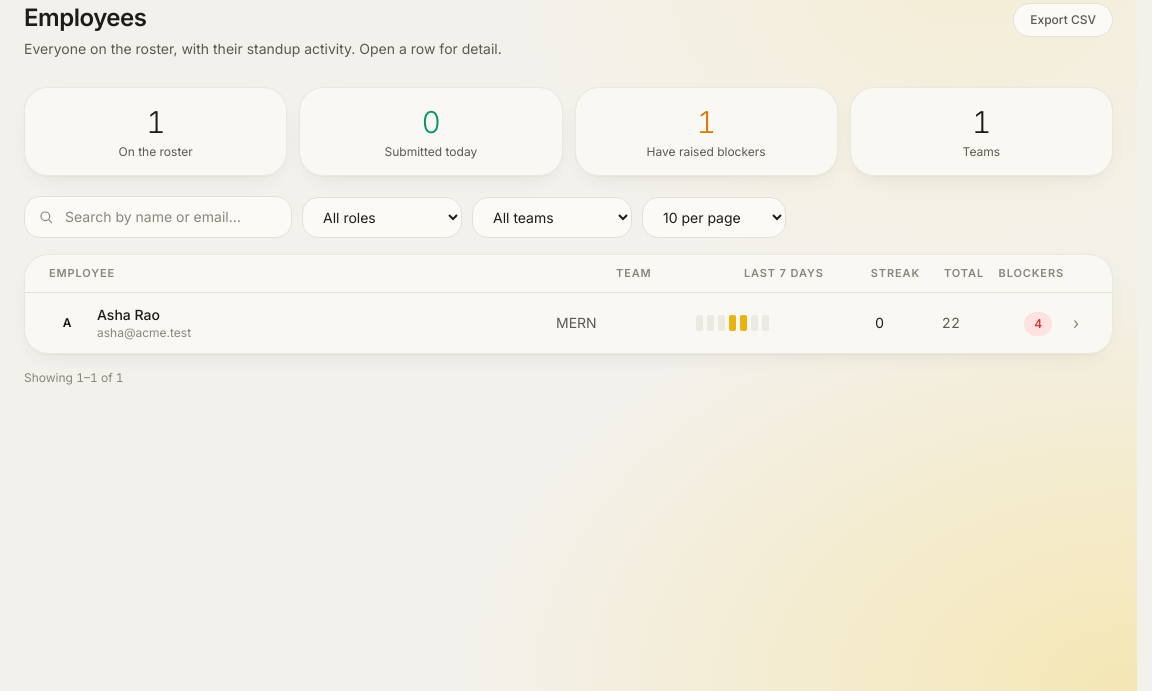
opening somebody on the roster › shows what they do here, with the date their probation runs out
Click the button "A Asha Rao asha@acme.test MERN 0 22 4 ›". click: (568, 323)
box: [25, 293, 1112, 353]
(page scrolled)
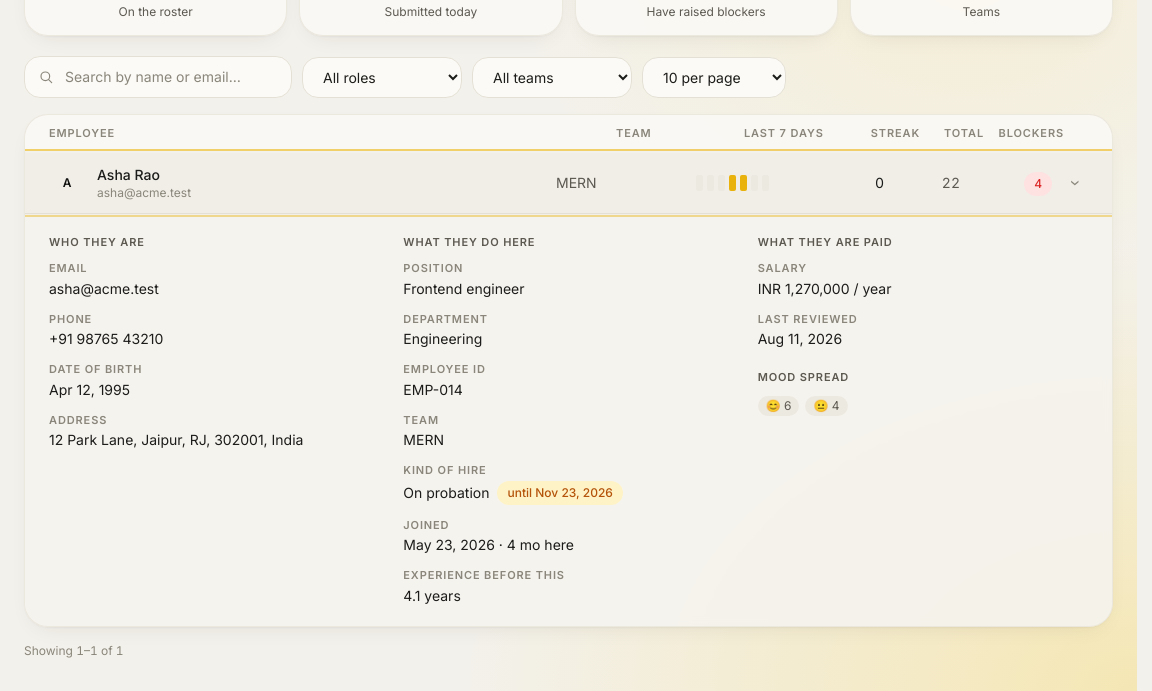
Now the text "Frontend engineer" is shown, box [403, 280, 524, 297]
Now the text "EMP-014" is shown, box [403, 381, 463, 398]
Now the text "On probation until Nov 23, 2026" is shown, box [403, 481, 623, 505]
